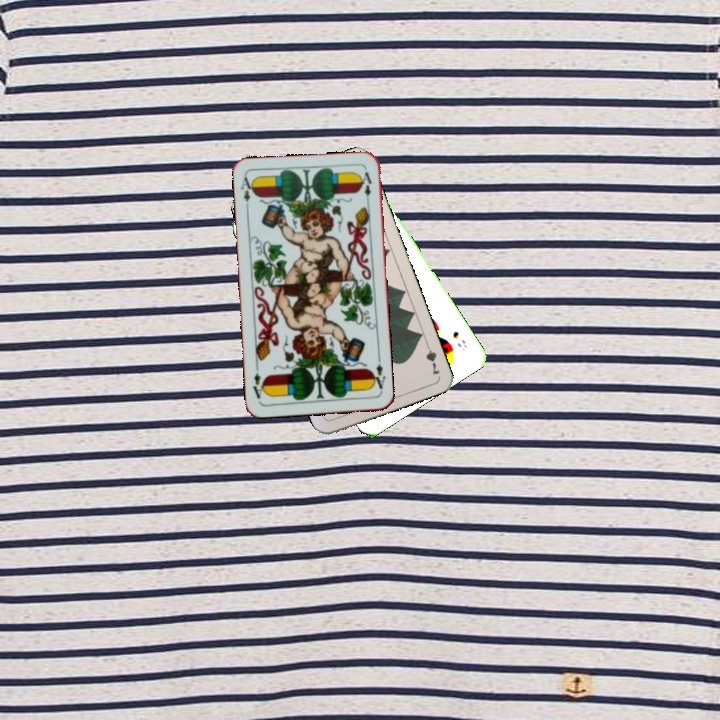EA: (236, 173, 257, 213), (368, 360, 388, 395)
G7: (421, 338, 442, 378)
S8: (448, 327, 469, 353)
